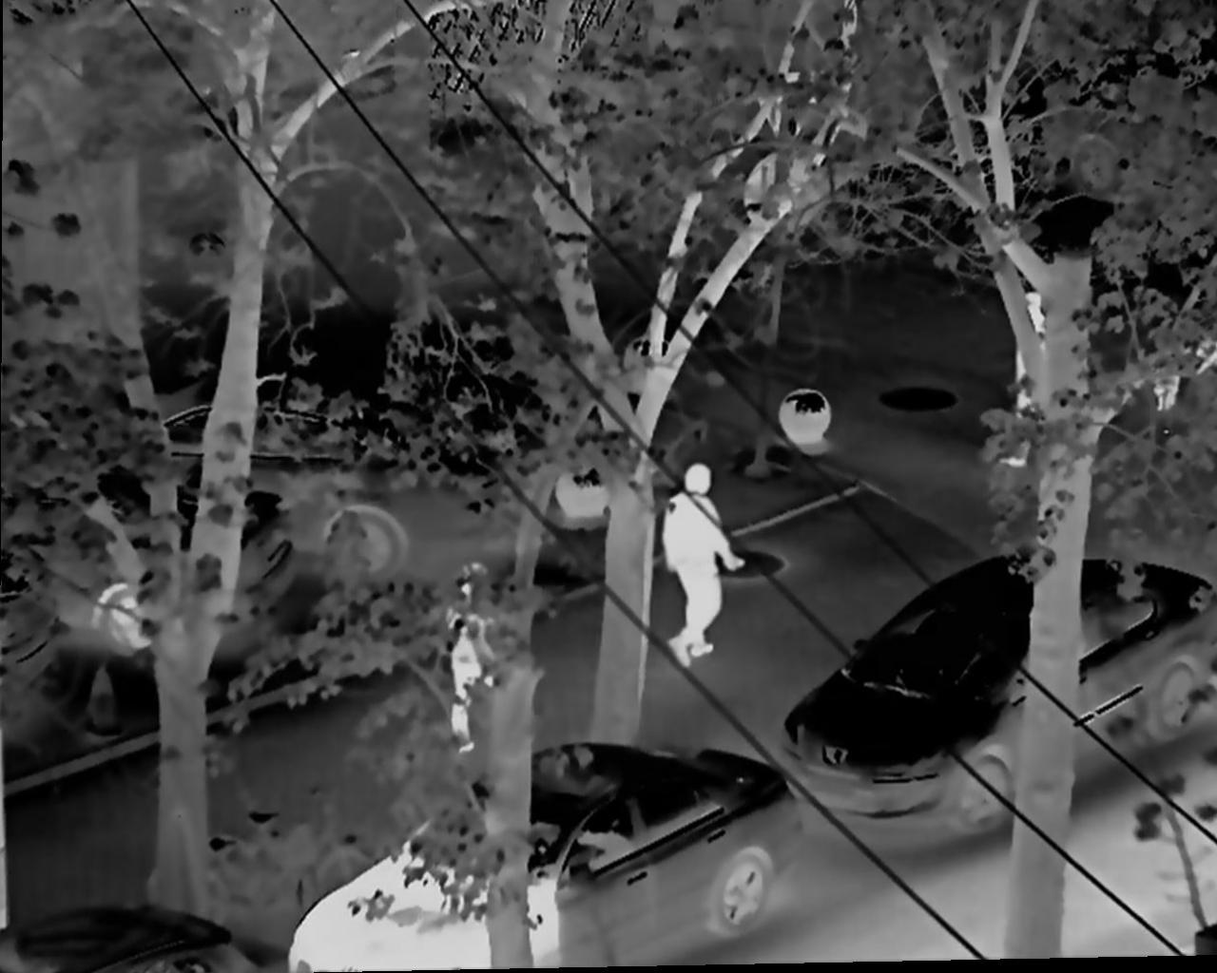person: (655, 444, 729, 672), (999, 283, 1068, 468), (434, 579, 498, 758)
